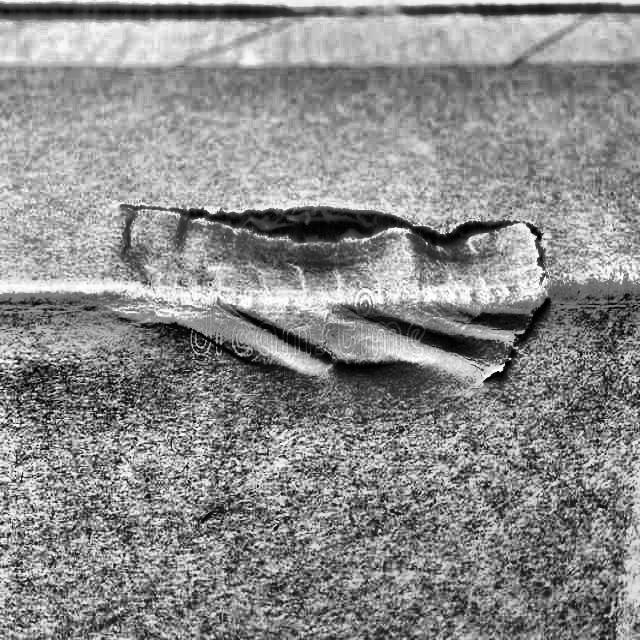box: (0, 0, 639, 639)
hole: (116, 191, 568, 407)
